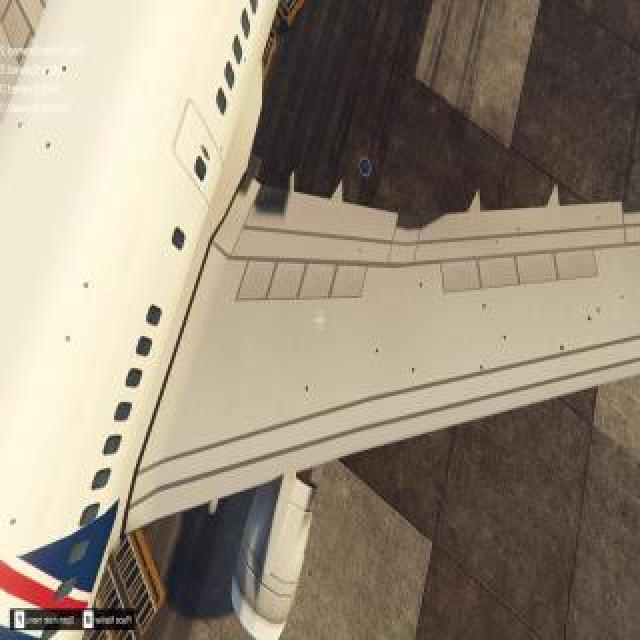crack: (83, 278, 93, 294), (374, 344, 382, 360), (410, 362, 418, 376), (9, 515, 17, 529), (304, 384, 312, 396), (66, 333, 74, 345), (419, 279, 427, 289), (558, 342, 566, 352), (583, 315, 591, 325), (515, 224, 523, 234), (480, 364, 486, 374), (503, 333, 509, 343), (495, 235, 499, 249), (597, 305, 601, 315), (479, 305, 489, 309)
